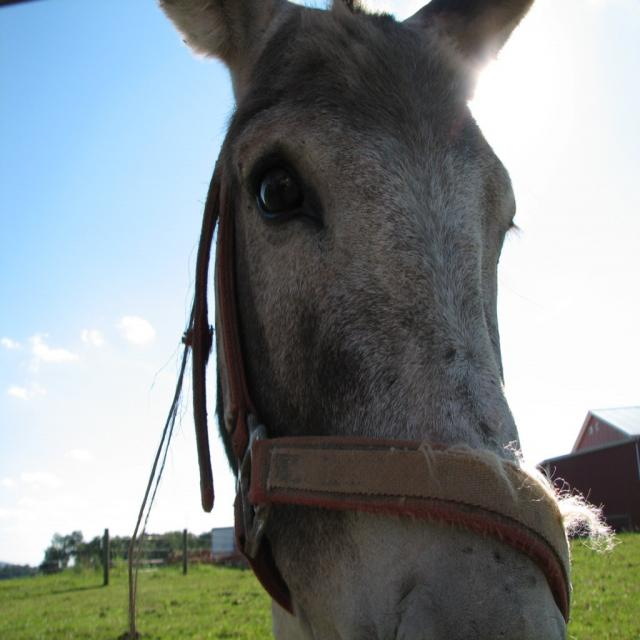Horse: (149, 0, 624, 640)
